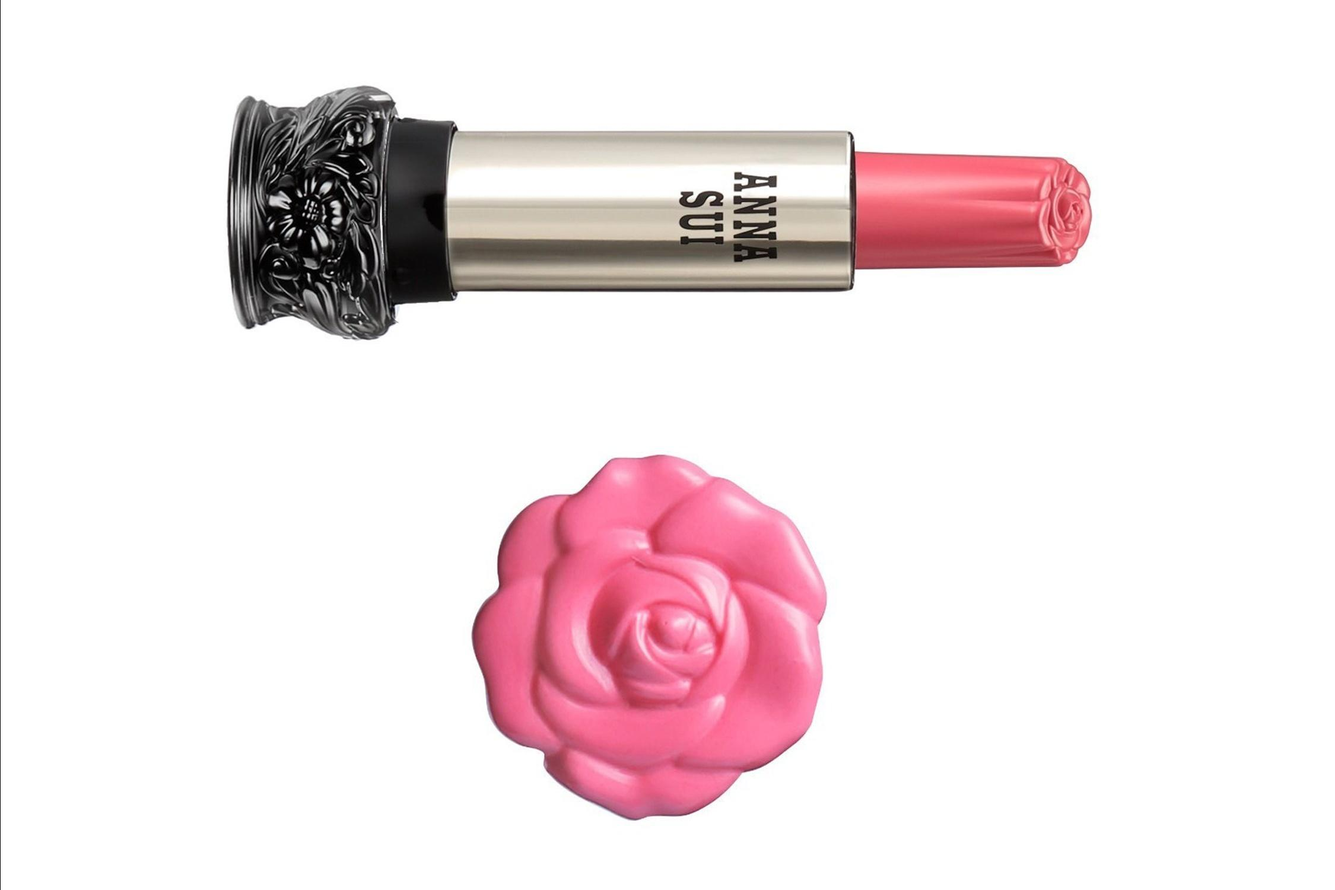lipstick: (221, 60, 1107, 336)
